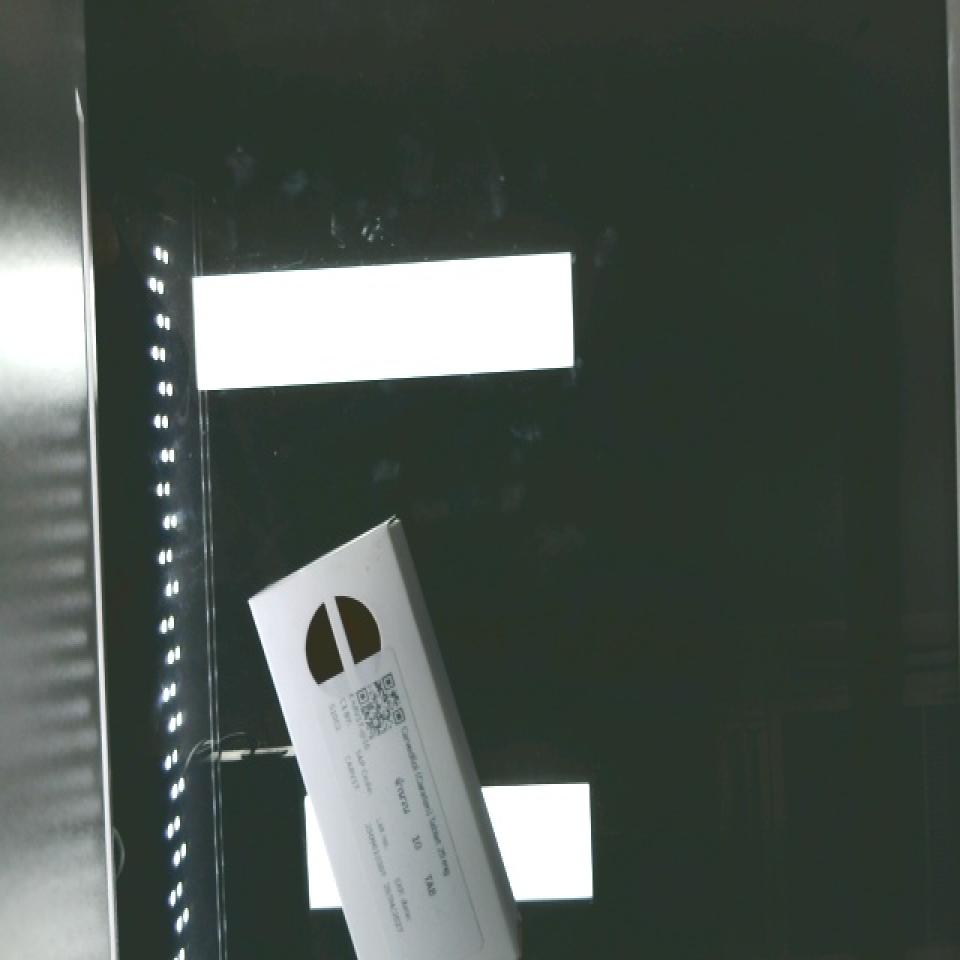medicine_box: (238, 525, 516, 960)
qr_code: (341, 664, 421, 753)
